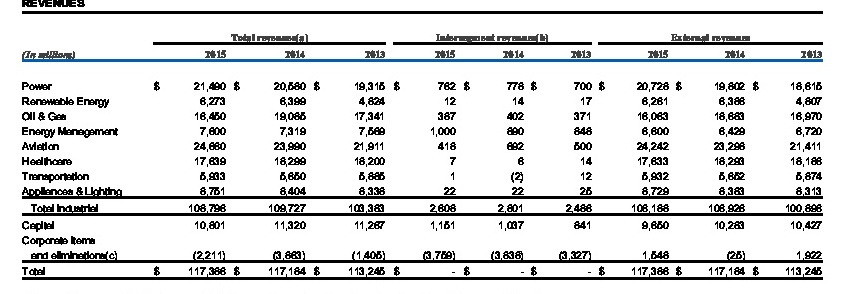table: (0, 0, 847, 294)
